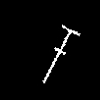double_crochet: (43, 25, 79, 82)
